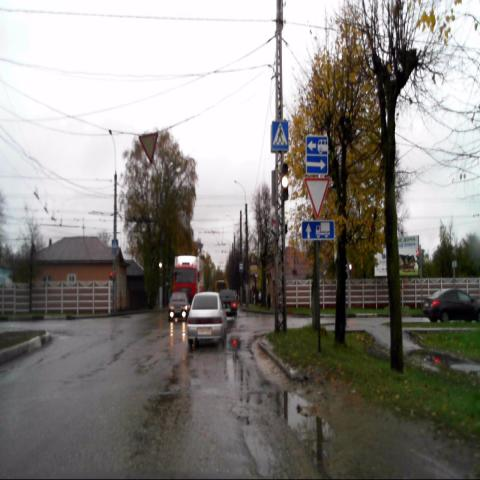5_7_1: (306, 156, 328, 175)
6_15_1: (304, 219, 334, 240)
6_15_3: (306, 136, 328, 155)
